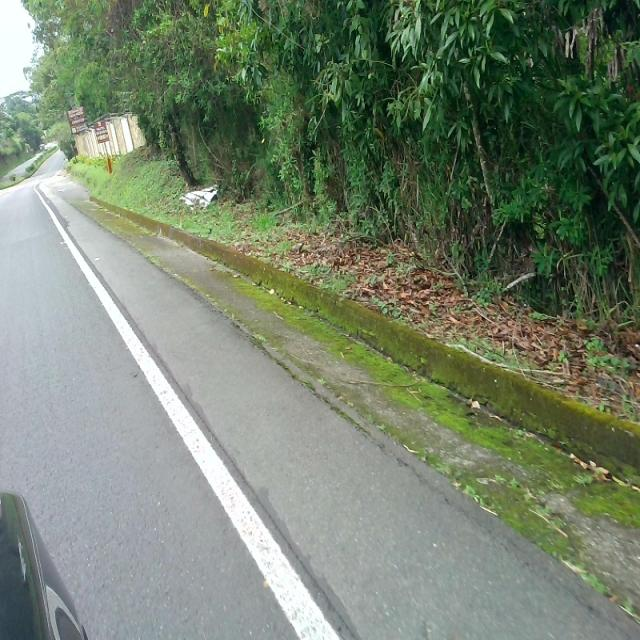DITCH: (1, 64, 638, 638), (42, 163, 640, 635)
